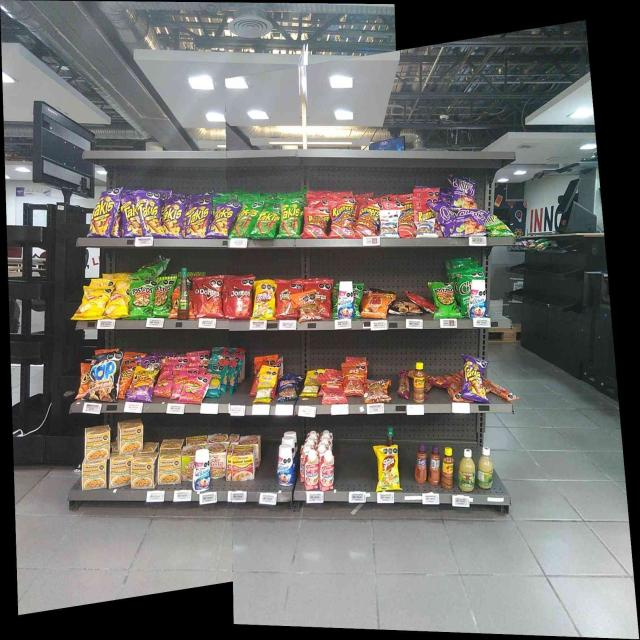bitzEnchilado90: (344, 364, 363, 395), (322, 376, 343, 402)
bitzEnchilado95: (487, 379, 518, 401)
bitzHabanero: (426, 374, 450, 388), (398, 368, 409, 398)
bokadosCacahuates: (278, 376, 296, 400)
botaneraChilito: (442, 448, 453, 490), (414, 362, 424, 403)
cheetosFlaminHot: (132, 364, 152, 400)
cheetosOriginal: (120, 365, 132, 398), (80, 362, 89, 398)
chipsFuego: (453, 174, 475, 208), (458, 210, 484, 235), (437, 202, 452, 236)
chipsJalapeno: (459, 271, 468, 318)
chipsPapatinas: (487, 216, 512, 237)
churrumais: (184, 376, 206, 402), (157, 368, 173, 397), (174, 370, 183, 399)
delPrimoSalsa: (458, 448, 476, 492), (477, 446, 493, 489)
doritosNacho: (228, 279, 252, 319), (198, 278, 222, 318)
fritosLimon: (378, 447, 399, 490), (255, 282, 274, 319)
hotNutsOriginal: (364, 291, 388, 318)
leoCacahuates: (380, 211, 398, 238), (416, 220, 434, 238)
leoMix: (298, 294, 318, 320), (366, 381, 388, 402)
maruchanPollo: (118, 418, 143, 452), (132, 454, 156, 488), (84, 427, 110, 458), (158, 451, 180, 483), (108, 458, 131, 487), (82, 462, 107, 488)
maruchanRes: (231, 446, 255, 480)
nestleCarnation: (319, 453, 334, 489), (304, 452, 318, 488)
nestleLechera: (193, 449, 210, 491), (278, 444, 294, 486), (468, 280, 486, 316), (338, 282, 354, 317)
nissinCamaron: (182, 446, 192, 480)
nissinRes: (211, 444, 227, 478)
popKarameladas: (90, 356, 118, 402), (392, 301, 418, 315)
rancheritos: (277, 281, 297, 318), (318, 280, 331, 316)
runners: (330, 202, 353, 238), (357, 202, 378, 237), (305, 208, 326, 238), (399, 202, 413, 238), (414, 198, 432, 220)
sabritasOriginal: (82, 288, 106, 318), (107, 288, 128, 318)
salsaBufalo: (178, 267, 189, 319)
semillasCalabaza: (258, 370, 272, 402), (305, 372, 320, 398)
semillasGirasol: (210, 362, 222, 397)
tajinDulce: (415, 444, 427, 484), (429, 445, 440, 485)
takisFuego: (90, 189, 114, 238), (464, 356, 486, 400), (141, 193, 160, 237), (164, 199, 184, 239), (186, 201, 207, 238), (122, 195, 138, 236), (212, 204, 230, 238)
takisOriginal: (281, 199, 300, 238), (257, 206, 278, 238), (234, 202, 253, 237)
tostitos: (130, 282, 154, 316), (434, 281, 455, 318), (133, 257, 166, 277), (155, 278, 172, 316)
